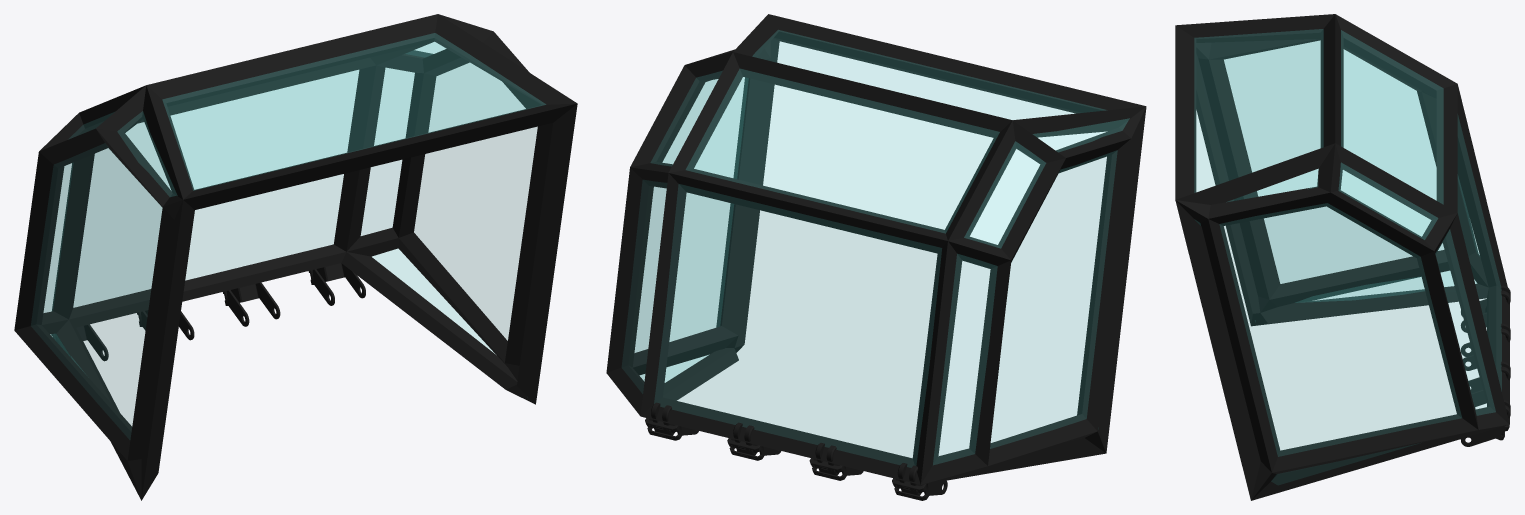
File: machine_door.fbx
3 renders of one model, left to right at view 1: azimuth 30°, elevation 25°; view 2: azimuth 150°, elevation 25°; view 3: azimuth 270°, elevation 25°, orthographic. The views are drawn at different scales.
Visible parts, largest first — view 1: m_door; view 2: m_door; view 3: m_door.
Boxes of the visible parts, x1,y1,x2,y2 form: m_door: (14,14,577,500); m_door: (606,14,1146,500); m_door: (1175,14,1510,500).
Bounding box in the file's own units: 174 × 154 × 139.
